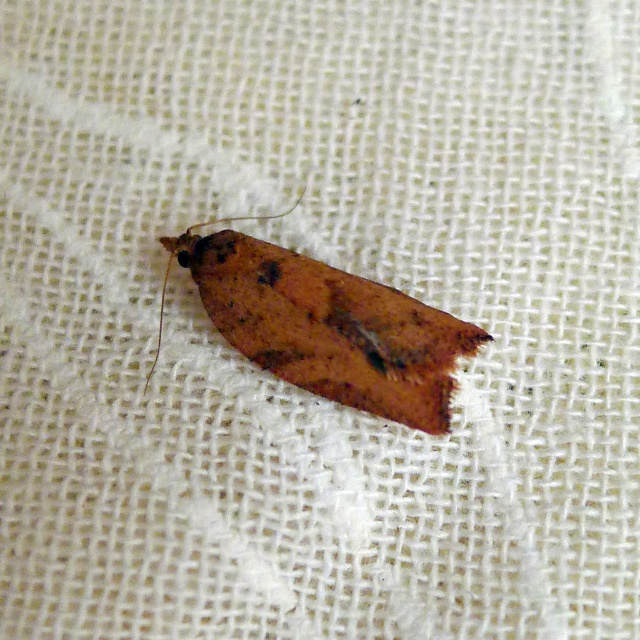Moths and butterflies: (143, 183, 497, 439)
